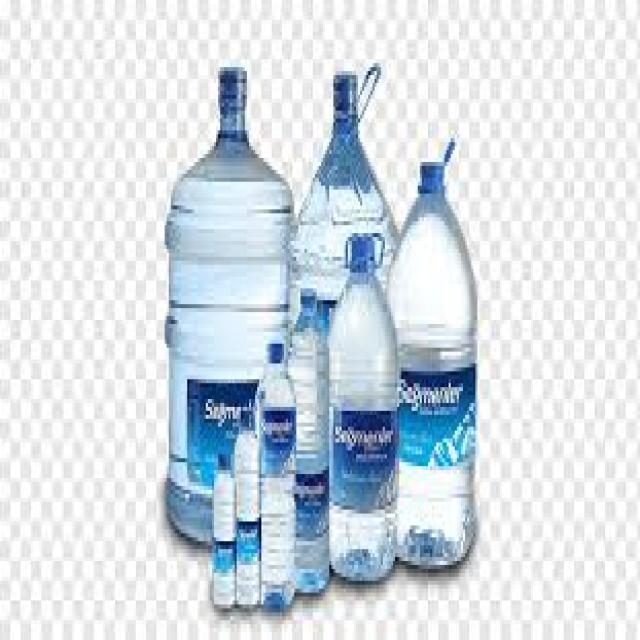bottle: (162, 41, 518, 610)
